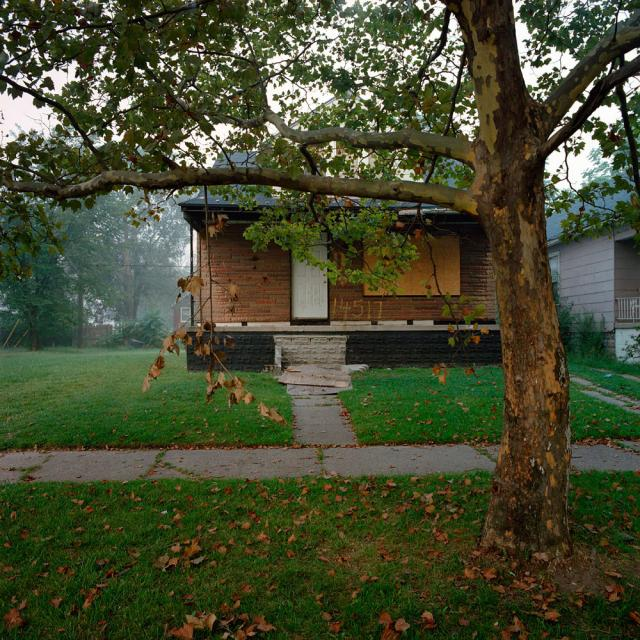House: (177, 150, 504, 387), (541, 172, 640, 366)
